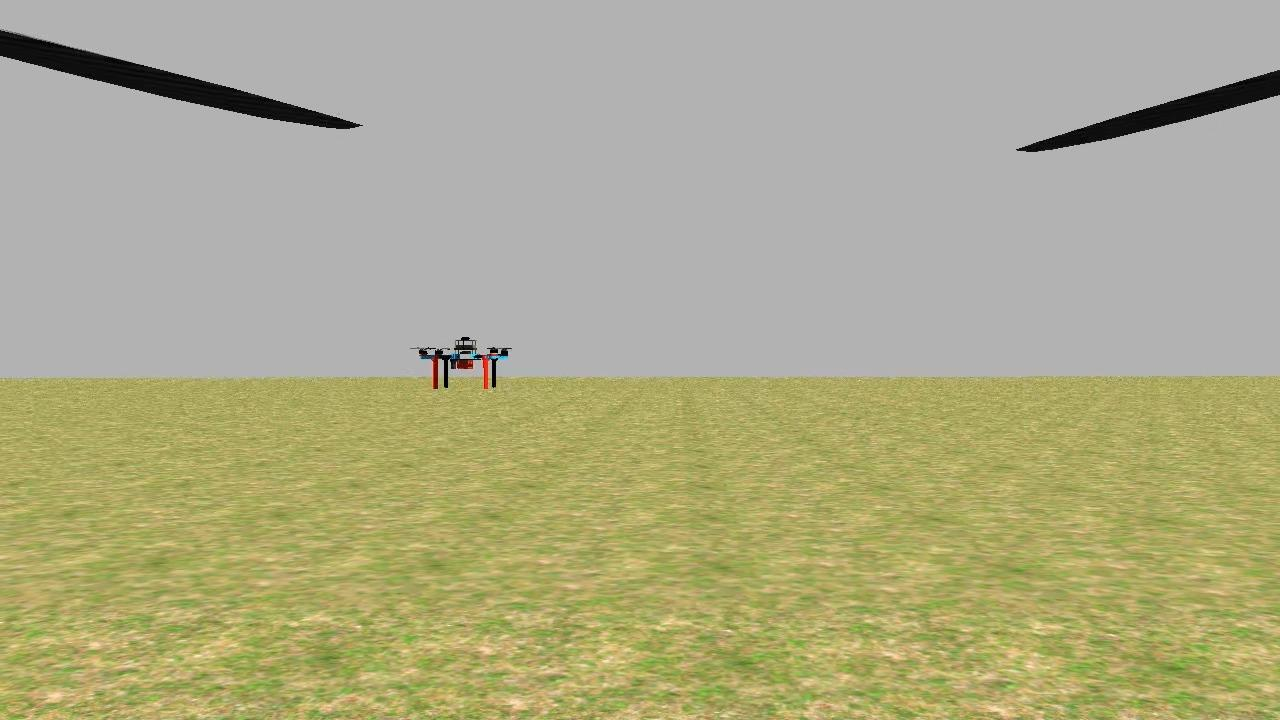UAV: (397, 334, 518, 395)
